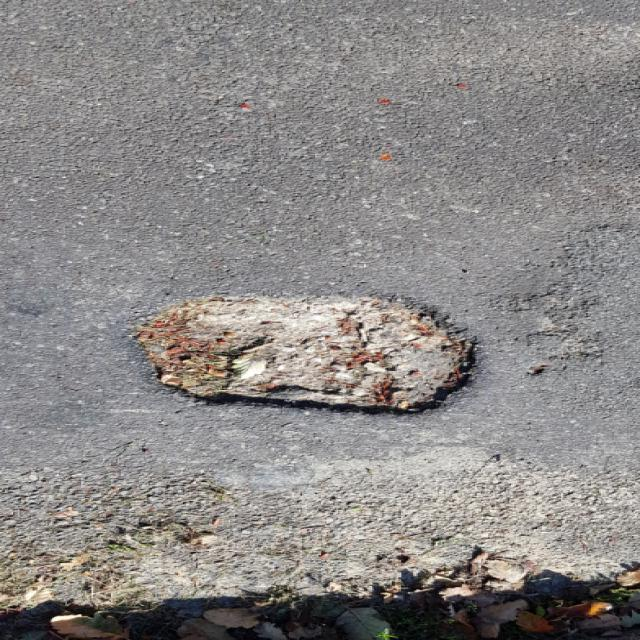Pothole: (122, 286, 480, 420)
